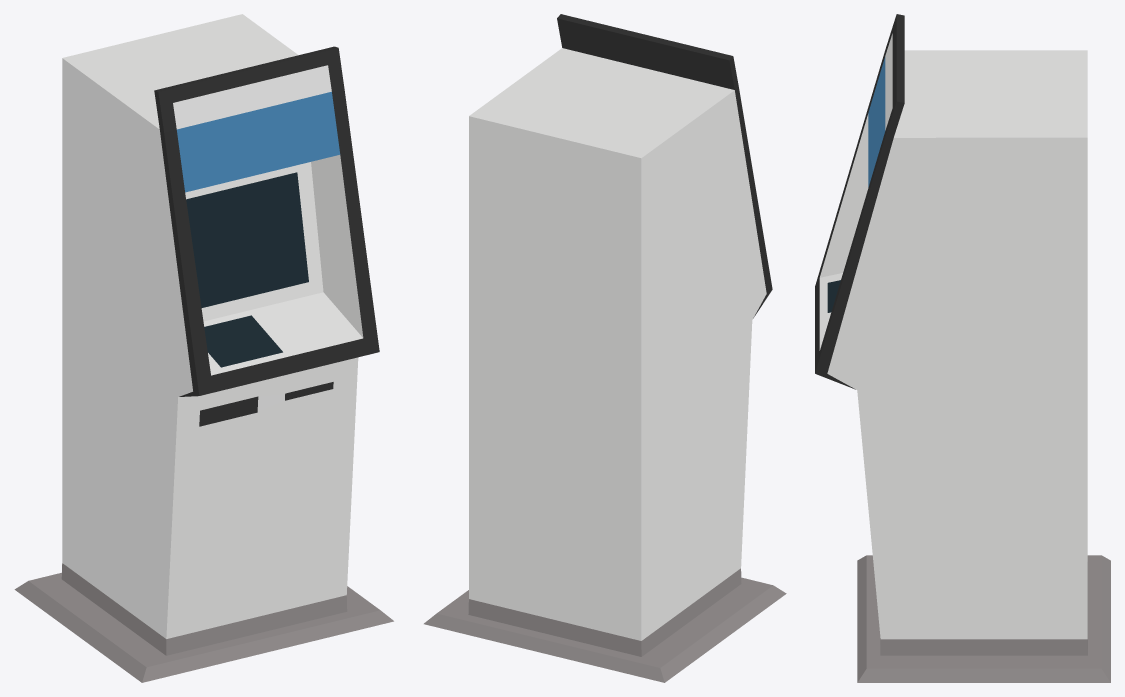
Rendered from atm-mechine_fbx.glb.
The picture shows the model from 3 angles, left to right: view 1: azimuth 30°, elevation 25°; view 2: azimuth 150°, elevation 25°; view 3: azimuth 270°, elevation 25°; orthographic projection. The views are drawn at different scales.
Parts seen in each view (by area): view 1: atm-mechine.fbx; view 2: atm-mechine.fbx; view 3: atm-mechine.fbx.
Boxes of the visible parts, x1,y1,x2,y2 form: atm-mechine.fbx: [14, 14, 393, 682]; atm-mechine.fbx: [424, 14, 786, 682]; atm-mechine.fbx: [815, 14, 1110, 682].
Bounding box in the file's own units: 0.8 × 1.72 × 0.8169.
Materials: 1 (1 with a texture image).
